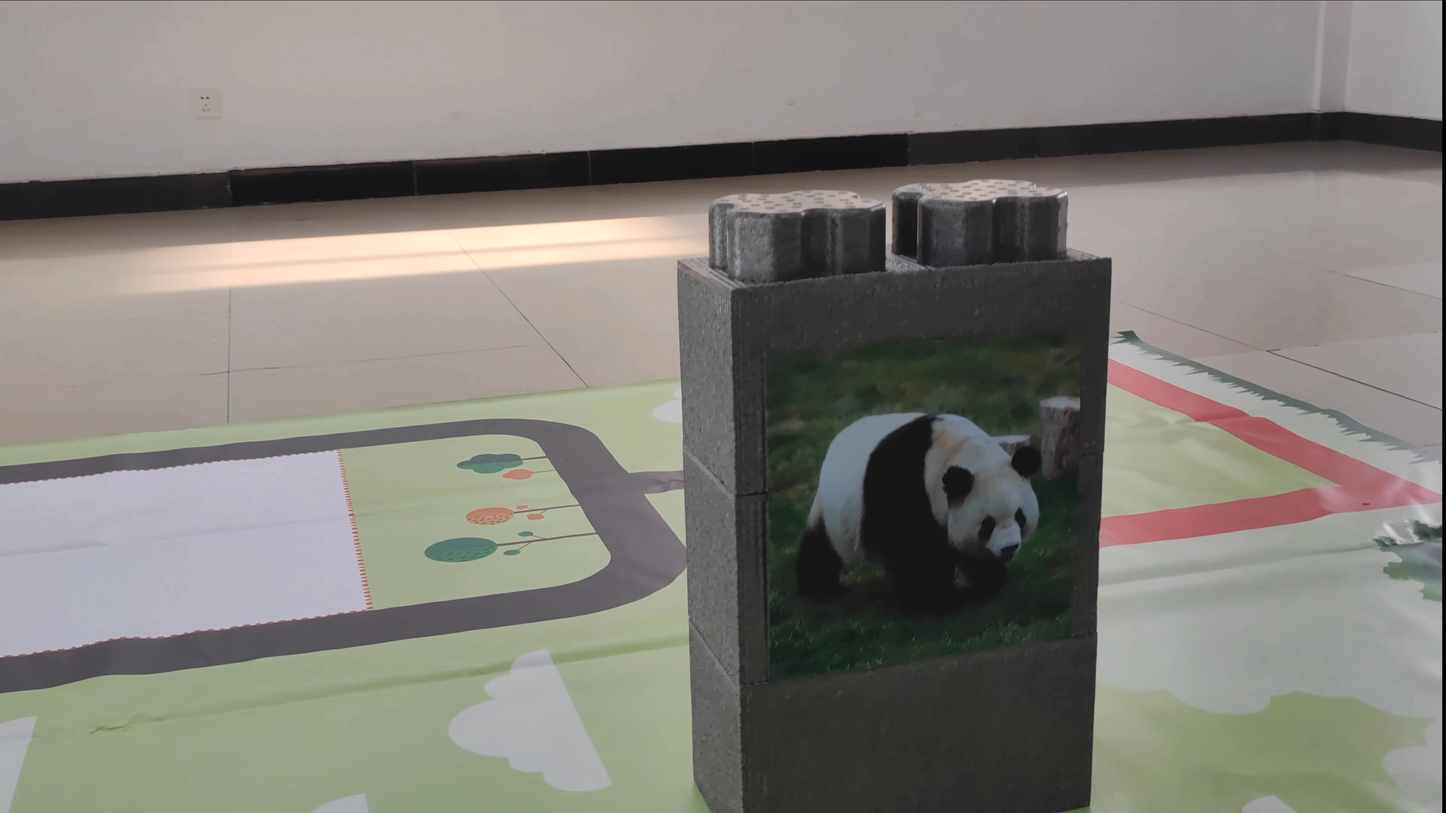panda: (787, 384, 1063, 636)
